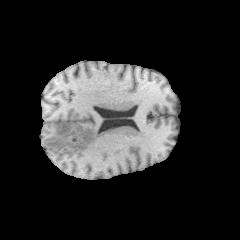glioma: (47, 122, 98, 153)
